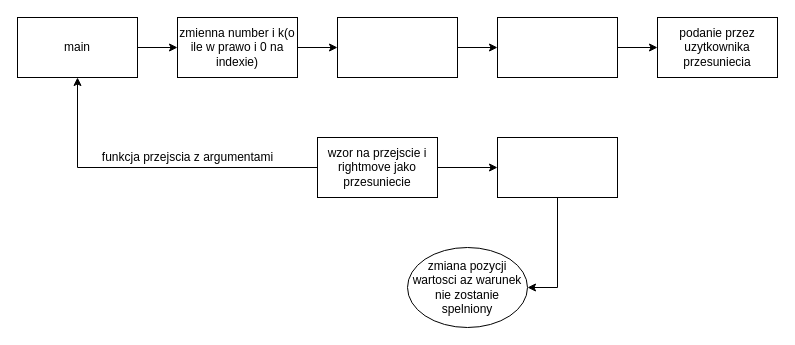
The diagram is 795 pixels wide and 345 high, and some of its shapes have lost their labels. Here are the shapes that lost their labels. From the top down, the box of each, then its label:
(336, 16, 458, 78): podanie przez uzytkownika ile ele ma miec tablica
(496, 16, 618, 78): podanie tych elementow wraz z stworzeniem tablicy
(496, 136, 618, 198): zmienna buff z przypisaniem przejscia na zerowy index w tablicy
